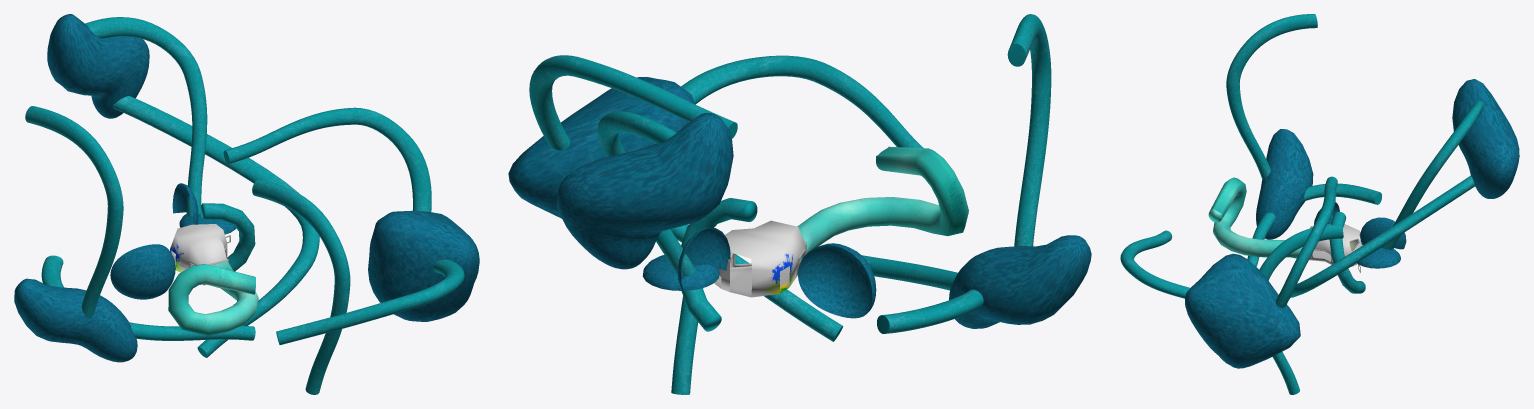
File: EntranceNew2.fbx
3 renders of one model, left to right at view 1: azimuth 30°, elevation 25°; view 2: azimuth 150°, elevation 25°; view 3: azimuth 270°, elevation 25°, orthographic. The views are drawn at different scales.
Parts seen in each view (by area): view 1: Welt2, Welt3, Welt1, Nerv3, Nerv7, Nerv8, Entrance, Nerv5, Nerv2, Nerv6, Outside, polySurface1 (+4 smaller); view 2: Welt3, Welt1, Entrance, Welt2, Nerv6, Nerv7, Nerv5, polySurface1, Outside, Nerv4, Nerv8, Nerv1 (+4 smaller); view 3: Welt2, Welt3, Welt1, Nerv5, Nerv3, Entrance, Nerv8, Nerv2, Nerv7, Nerv6, Nerv4, Nerv1 (+3 smaller).
Boxes of the visible parts, x1=… form: Welt2: x1=368, y1=210, x2=479, y2=321; Welt3: x1=47, y1=14, x2=149, y2=118; Welt1: x1=14, y1=278, x2=137, y2=362; Nerv3: x1=112, y1=96, x2=319, y2=357; Nerv7: x1=223, y1=107, x2=431, y2=211; Nerv8: x1=85, y1=17, x2=207, y2=216; Entrance: x1=168, y1=261, x2=258, y2=335; Nerv5: x1=25, y1=106, x2=123, y2=318; Nerv2: x1=252, y1=179, x2=350, y2=394; Nerv6: x1=276, y1=259, x2=464, y2=344; Outside: x1=110, y1=244, x2=175, y2=299; polySurface1: x1=170, y1=224, x2=227, y2=272; Welt3: x1=556, y1=113, x2=733, y2=269; Welt1: x1=949, y1=235, x2=1091, y2=328; Entrance: x1=797, y1=146, x2=968, y2=262; Welt2: x1=508, y1=77, x2=694, y2=218; Nerv6: x1=681, y1=55, x2=923, y2=148; Nerv7: x1=529, y1=55, x2=737, y2=150; Nerv5: x1=1007, y1=14, x2=1051, y2=246; polySurface1: x1=714, y1=220, x2=805, y2=297; Outside: x1=798, y1=243, x2=876, y2=318; Nerv4: x1=862, y1=255, x2=983, y2=333; Nerv8: x1=597, y1=111, x2=695, y2=276; Nerv1: x1=681, y1=198, x2=757, y2=331; Welt2: x1=1185, y1=253, x2=1300, y2=368; Welt3: x1=1452, y1=79, x2=1519, y2=198; Welt1: x1=1256, y1=129, x2=1313, y2=239; Nerv5: x1=1226, y1=14, x2=1317, y2=179; Nerv3: x1=1290, y1=175, x2=1474, y2=297; Entrance: x1=1208, y1=177, x2=1302, y2=258; Nerv8: x1=1381, y1=101, x2=1483, y2=249; Nerv2: x1=1259, y1=224, x2=1343, y2=394; Nerv7: x1=1275, y1=176, x2=1337, y2=307; Nerv6: x1=1120, y1=230, x2=1190, y2=298; Nerv4: x1=1247, y1=183, x2=1381, y2=266; Nerv1: x1=1329, y1=211, x2=1365, y2=293.
Size of the model in its own units: 109 by 82.27 by 108.
